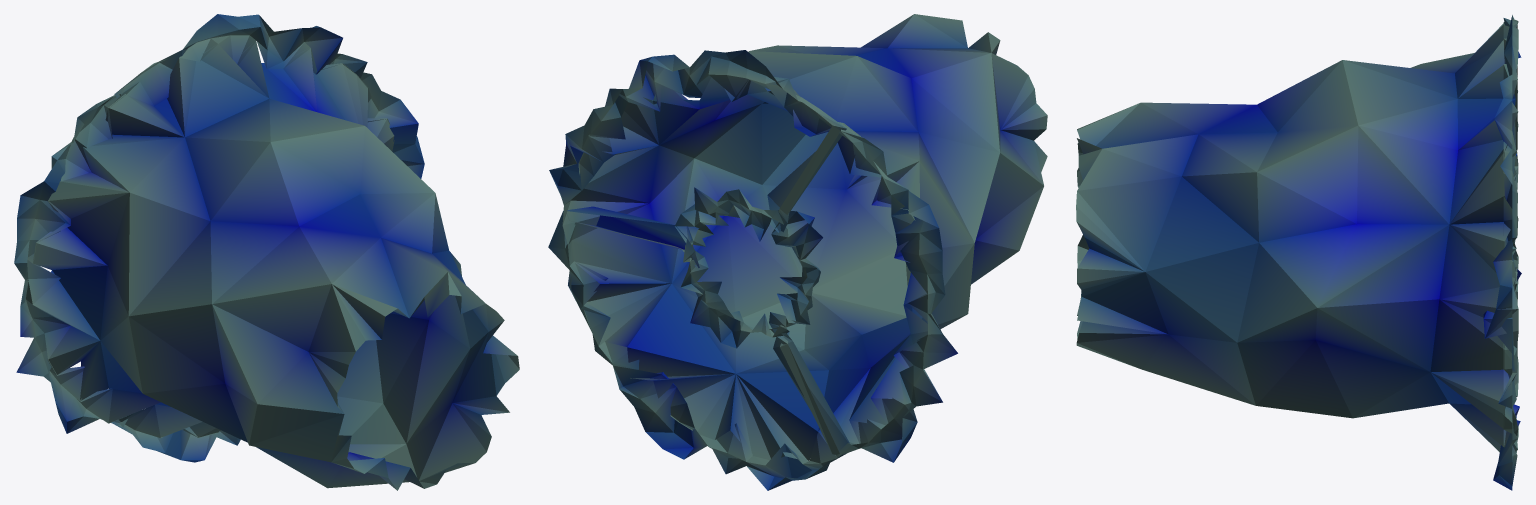
The model's file is lamp_shade_2_final100.obj.
3 views of the same model, side by side, from view 1: azimuth 30°, elevation 25°; view 2: azimuth 150°, elevation 25°; view 3: azimuth 270°, elevation 25° (orthographic). The views are drawn at different scales.
Bounding box in the file's own units: 1.19 × 1.24 × 1.11.
